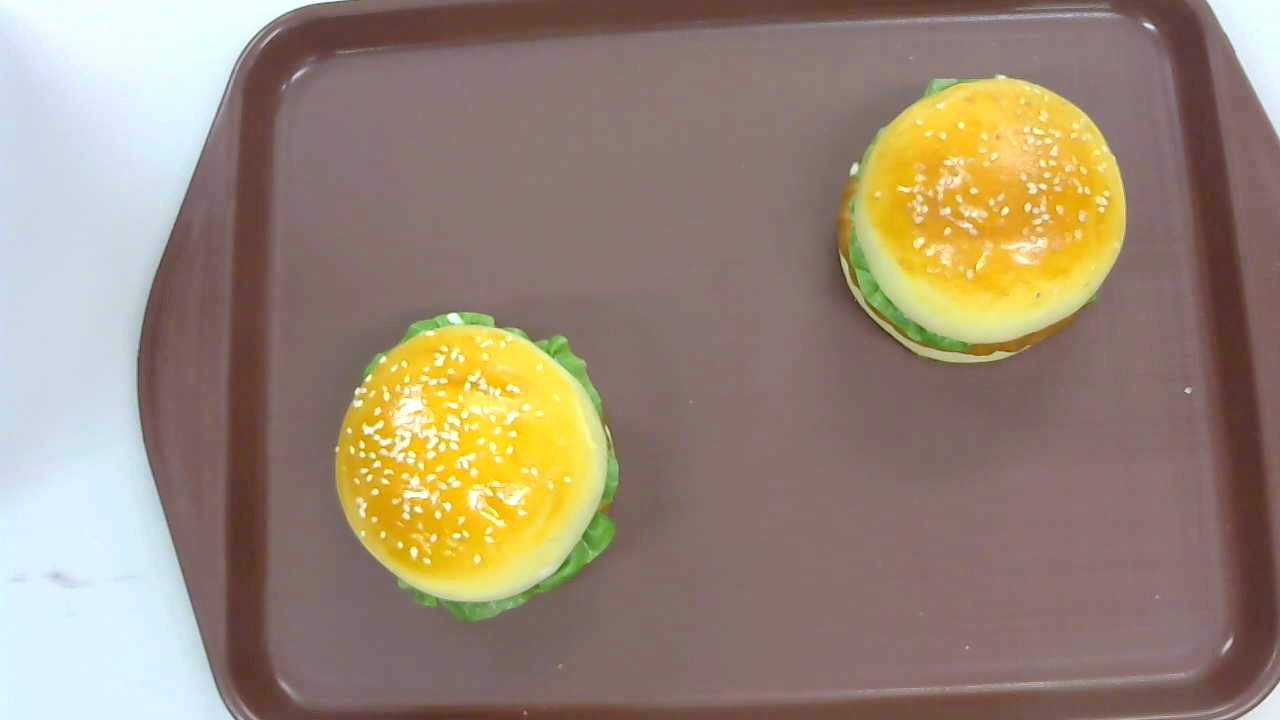hamburger: (333, 310, 618, 624), (835, 72, 1128, 366)
